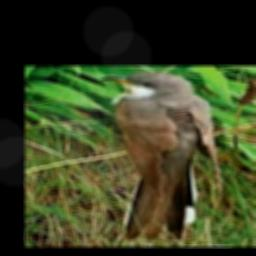Cuckoo: (100, 72, 216, 238)
